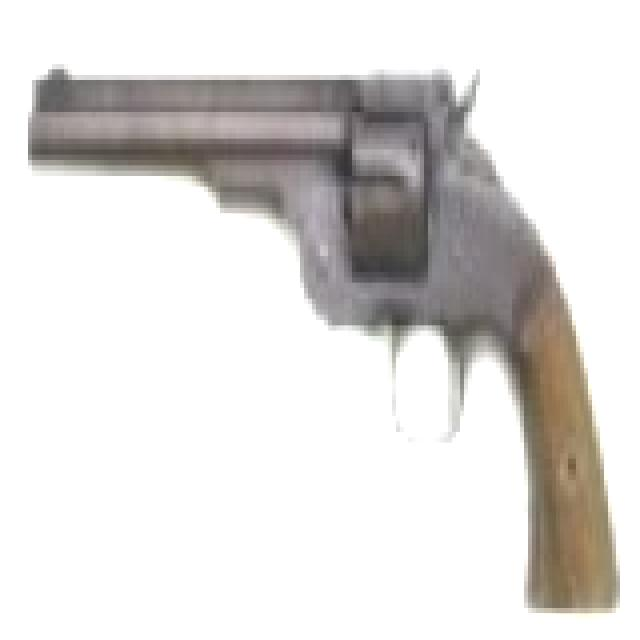pistol: (40, 53, 612, 587)
